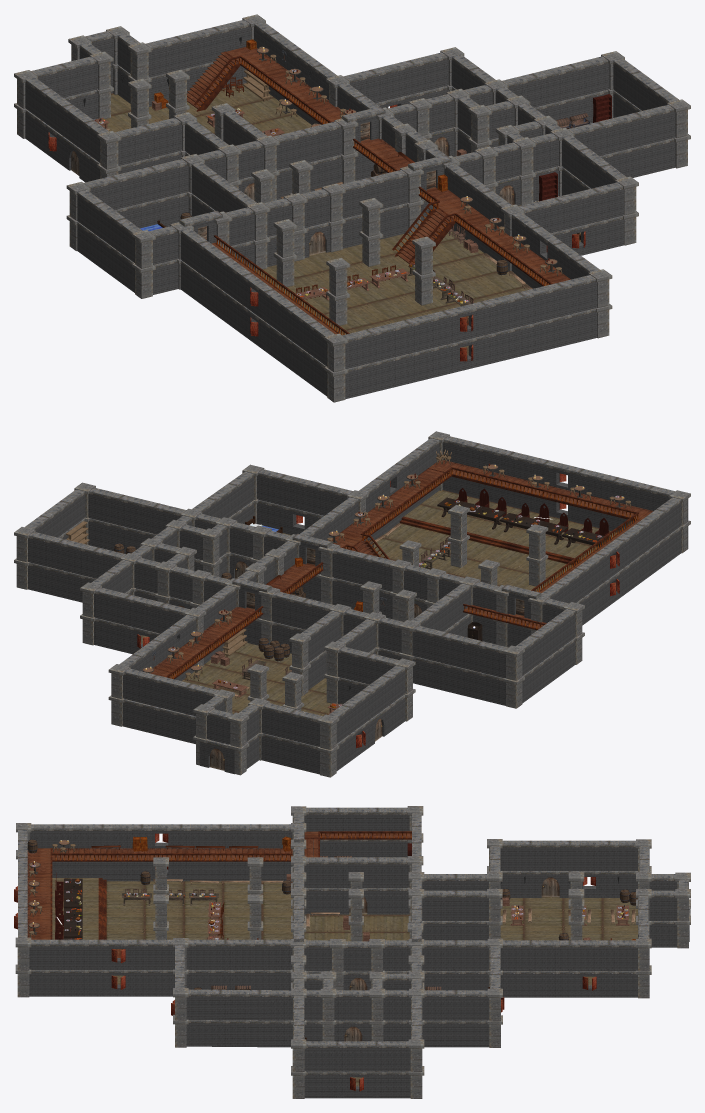
Rendered from compressed-medieval_tavern.glb.
3 renders of one model, top to bottom at view 1: azimuth 30°, elevation 25°; view 2: azimuth 150°, elevation 25°; view 3: azimuth 270°, elevation 25°, orthographic. The views are drawn at different scales.
Parts seen in each view (by area): view 1: AssiLegni_1150, MuroBase.209_880, MuroBase.183_858, MuroBase.181_939, MuroBase.195_864, MuroBase.180_920, MuroBase.105_924, MuroBase.111_929, MuroBase.106_925, MuroBase.107_956, MuroBase.189_941, MuroBase.113_931 (+124 smaller); view 2: AssiLegni_1150, AssiLegni.002_1161, MuroBase.209_880, MuroBase.181_939, MuroBase.183_858, MuroBase.195_864, MuroBase.180_920, MuroBase.189_941, Plane_255, MuroBase.149_938, MuroBase.187_862, MuroBase.199_868 (+103 smaller); view 3: AssiLegni.003_1162, AssiLegni.002_1161, MuroBase.173_850, MuroBase.022_726, MuroBase.024_728, MuroBase.117_914, MuroBase.225_960, MuroBase.026_730, MuroBase.028_734, MuroBase.092_952, MuroBase.223_958, MuroBase.093_955 (+111 smaller).
Part boxes in pixels (left/top/right/bottom): AssiLegni_1150: left=226, top=47, right=570, bottom=285; MuroBase.209_880: left=112, top=166, right=155, bottom=209; MuroBase.183_858: left=598, top=112, right=641, bottom=155; MuroBase.181_939: left=371, top=60, right=414, bottom=102; MuroBase.195_864: left=532, top=64, right=575, bottom=106; MuroBase.180_920: left=555, top=188, right=598, bottom=230; MuroBase.105_924: left=481, top=292, right=524, bottom=334; MuroBase.111_929: left=366, top=320, right=409, bottom=362; MuroBase.106_925: left=405, top=311, right=447, bottom=353; MuroBase.107_956: left=443, top=301, right=486, bottom=344; MuroBase.189_941: left=176, top=27, right=219, bottom=69; MuroBase.113_931: left=519, top=283, right=562, bottom=325; AssiLegni_1150: left=150, top=469, right=449, bottom=678; AssiLegni.002_1161: left=429, top=460, right=653, bottom=519; MuroBase.209_880: left=442, top=632, right=481, bottom=671; MuroBase.181_939: left=125, top=594, right=164, bottom=633; MuroBase.183_858: left=119, top=495, right=158, bottom=533; MuroBase.195_864: left=59, top=539, right=98, bottom=577; MuroBase.180_920: left=280, top=475, right=320, bottom=513; MuroBase.189_941: left=151, top=675, right=191, bottom=713; Plane_255: left=399, top=516, right=580, bottom=565; MuroBase.149_938: left=94, top=587, right=129, bottom=624; MuroBase.187_862: left=88, top=487, right=123, bottom=525; MuroBase.199_868: left=28, top=532, right=63, bottom=569; AssiLegni.003_1162: left=52, top=848, right=318, bottom=859; AssiLegni.002_1161: left=27, top=848, right=50, bottom=939; MuroBase.173_850: left=220, top=989, right=259, bottom=1020; MuroBase.022_726: left=530, top=940, right=569, bottom=970; MuroBase.024_728: left=570, top=940, right=609, bottom=970; MuroBase.117_914: left=337, top=1041, right=376, bottom=1071; MuroBase.225_960: left=225, top=939, right=264, bottom=969; MuroBase.026_730: left=530, top=840, right=569, bottom=870; MuroBase.028_734: left=570, top=840, right=609, bottom=870; MuroBase.092_952: left=59, top=939, right=98, bottom=969; MuroBase.223_958: left=186, top=939, right=225, bottom=969; MuroBase.093_955: left=98, top=939, right=137, bottom=969.
Bounding box in the file's own units: 42.39 × 4.71 × 50.49.
56 materials, 37 textured.
